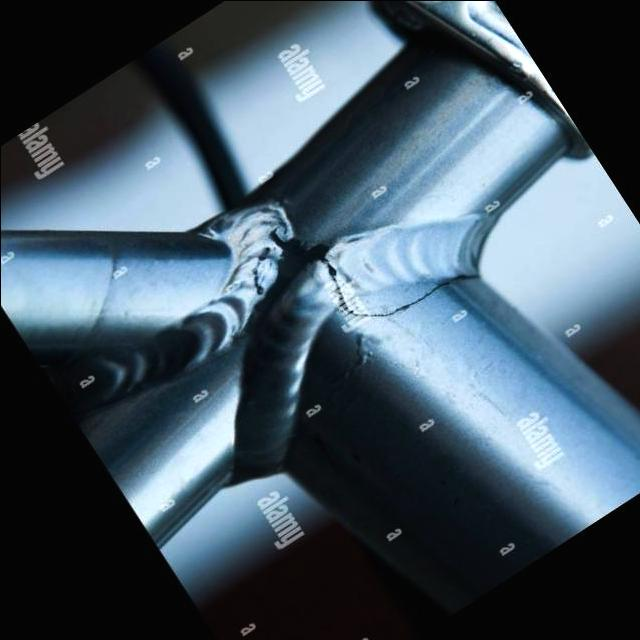defect: (319, 257, 492, 323), (248, 244, 274, 303)
